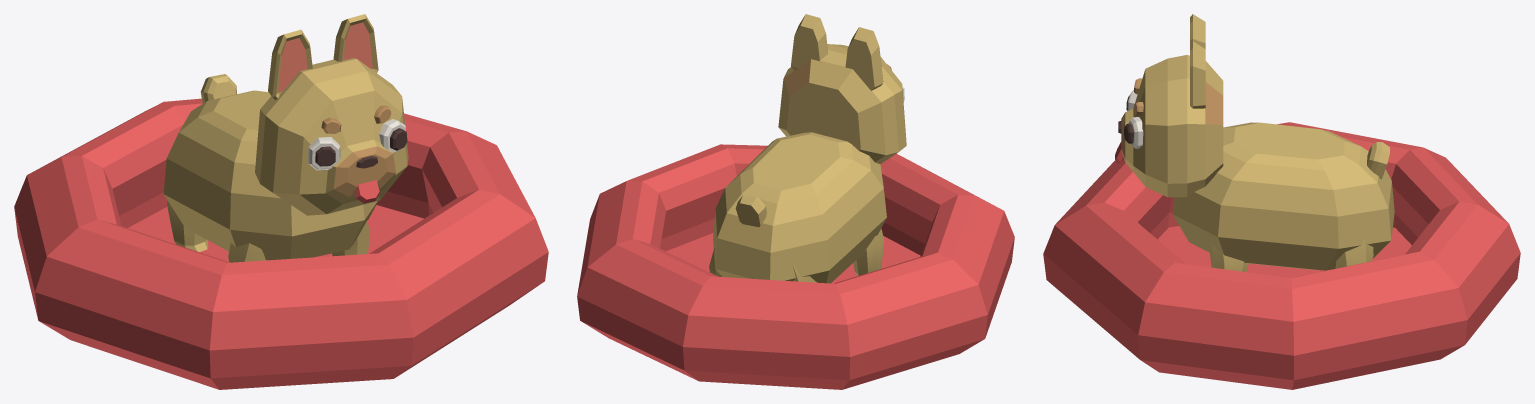
File: fbd_player.fbx
3 views of the same model, side by side, from view 1: azimuth 30°, elevation 25°; view 2: azimuth 150°, elevation 25°; view 3: azimuth 270°, elevation 25° (orthographic). The views are drawn at different scales.
Visible parts, largest first — view 1: pPlane22; view 2: pPlane22; view 3: pPlane22.
Part boxes in pixels (box(x1,y1,x2,y2)): pPlane22: box(14, 14, 548, 389); pPlane22: box(577, 14, 1014, 389); pPlane22: box(1043, 14, 1520, 389).
Size of the model in its own units: 8.34 by 5.4 by 8.27.
